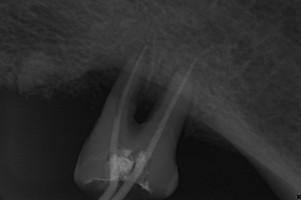Endo-Periodontal Lesion: (134, 81, 164, 123)
